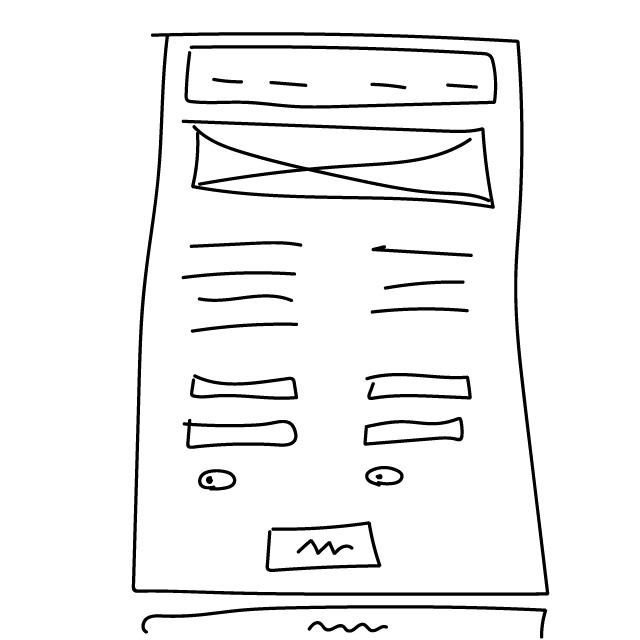button: (262, 519, 386, 575)
checkbox: (364, 463, 410, 491), (197, 469, 243, 494)
container: (115, 21, 570, 603)
footer: (132, 603, 558, 640)
frame: (181, 119, 500, 213)
input: (362, 368, 478, 405), (182, 419, 305, 453), (186, 373, 302, 406), (361, 415, 471, 447)
nav: (182, 43, 505, 114)
text: (181, 231, 311, 342), (360, 234, 479, 323)
